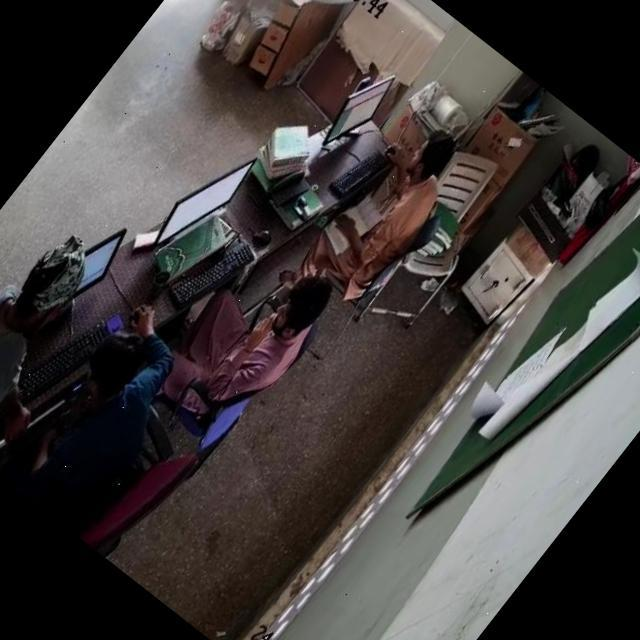person: (13, 305, 214, 525), (154, 230, 343, 434), (312, 114, 468, 294), (0, 219, 101, 442)
